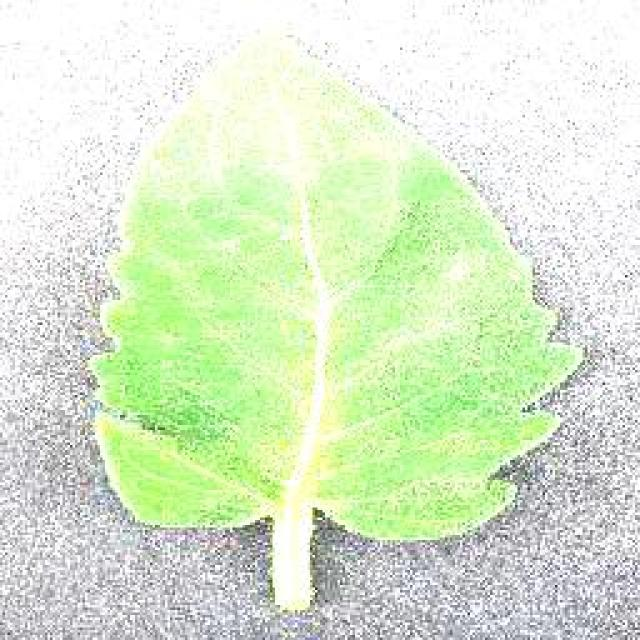Tomato___healthy: (85, 24, 587, 618)
